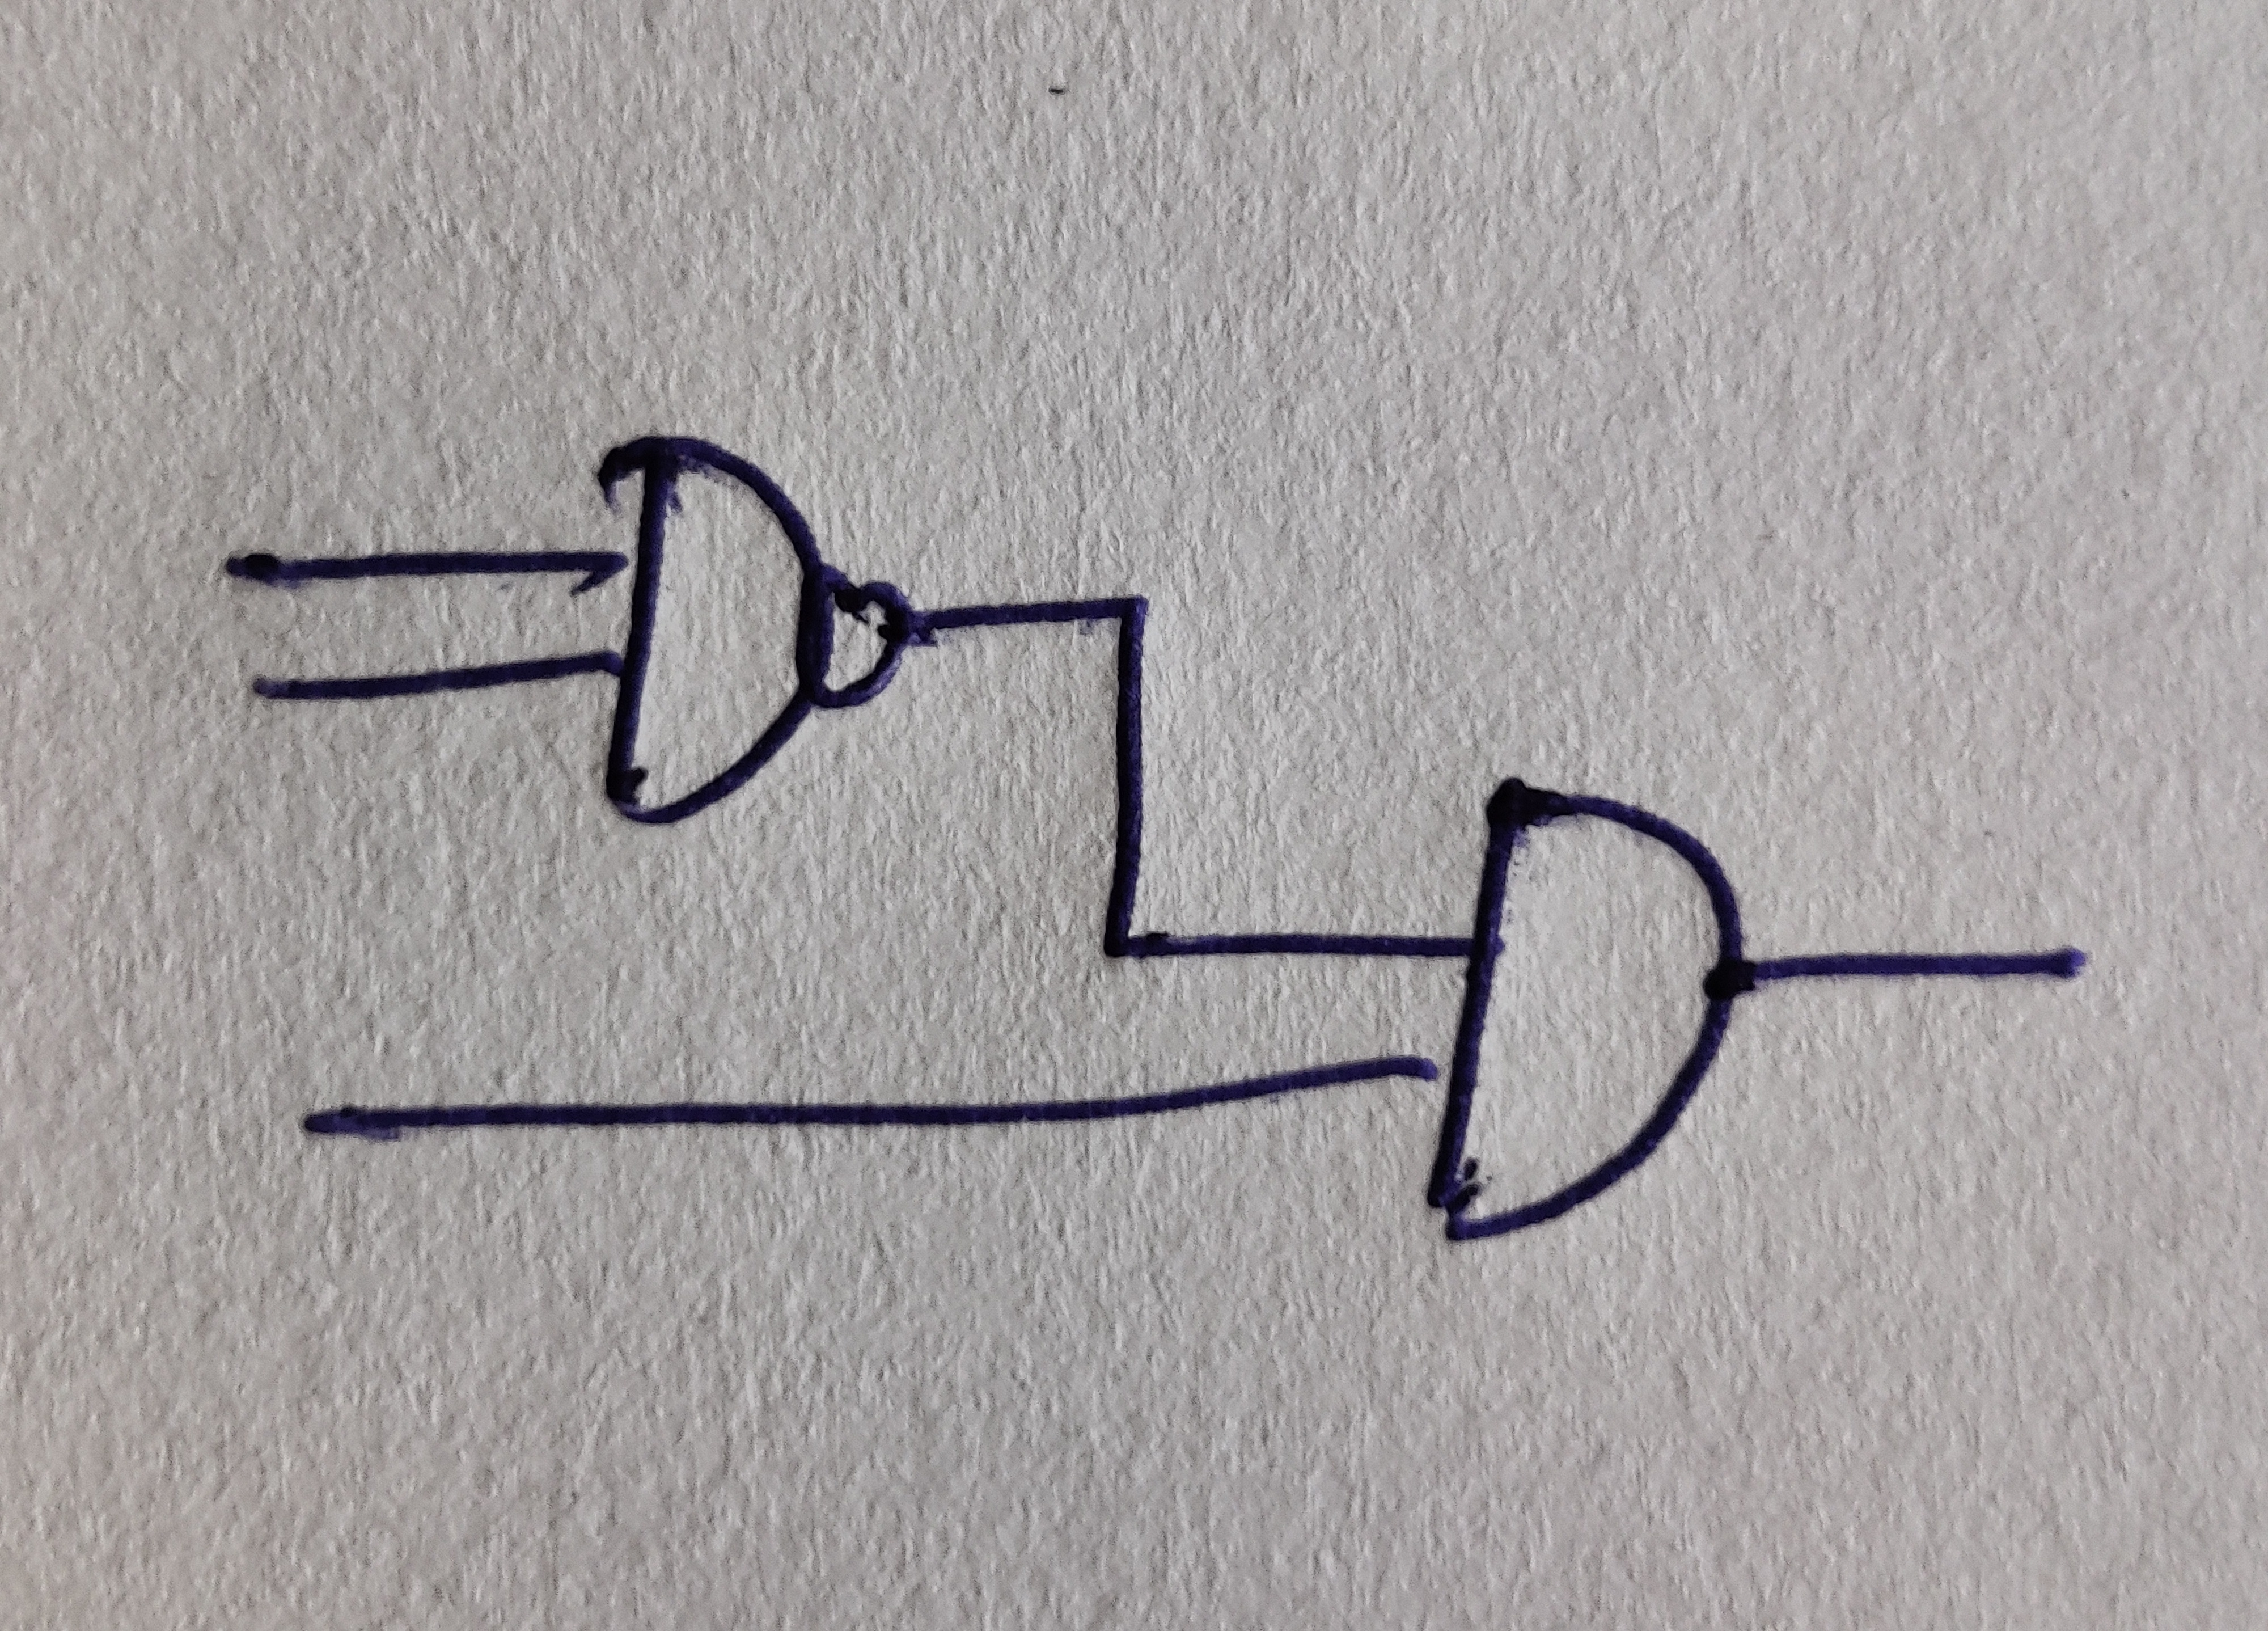and: (1425, 779, 1743, 1242), (599, 437, 833, 826)
not: (803, 564, 909, 708)
